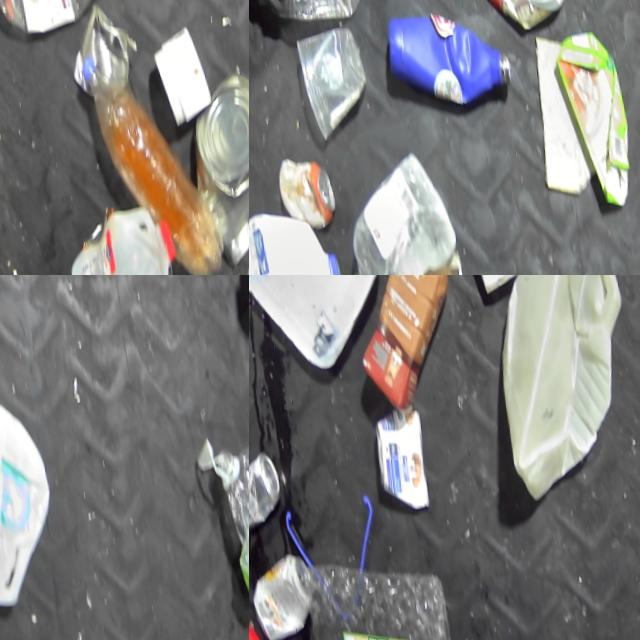can: (183, 69, 249, 247), (249, 546, 311, 640), (267, 153, 332, 228), (249, 445, 280, 538), (454, 0, 573, 23)
milk_jug: (468, 275, 637, 505), (0, 385, 50, 613), (57, 199, 176, 275), (249, 210, 347, 275)
non_white_jug: (337, 275, 466, 410)
plastic_bottle: (203, 433, 249, 640), (274, 0, 377, 20)
